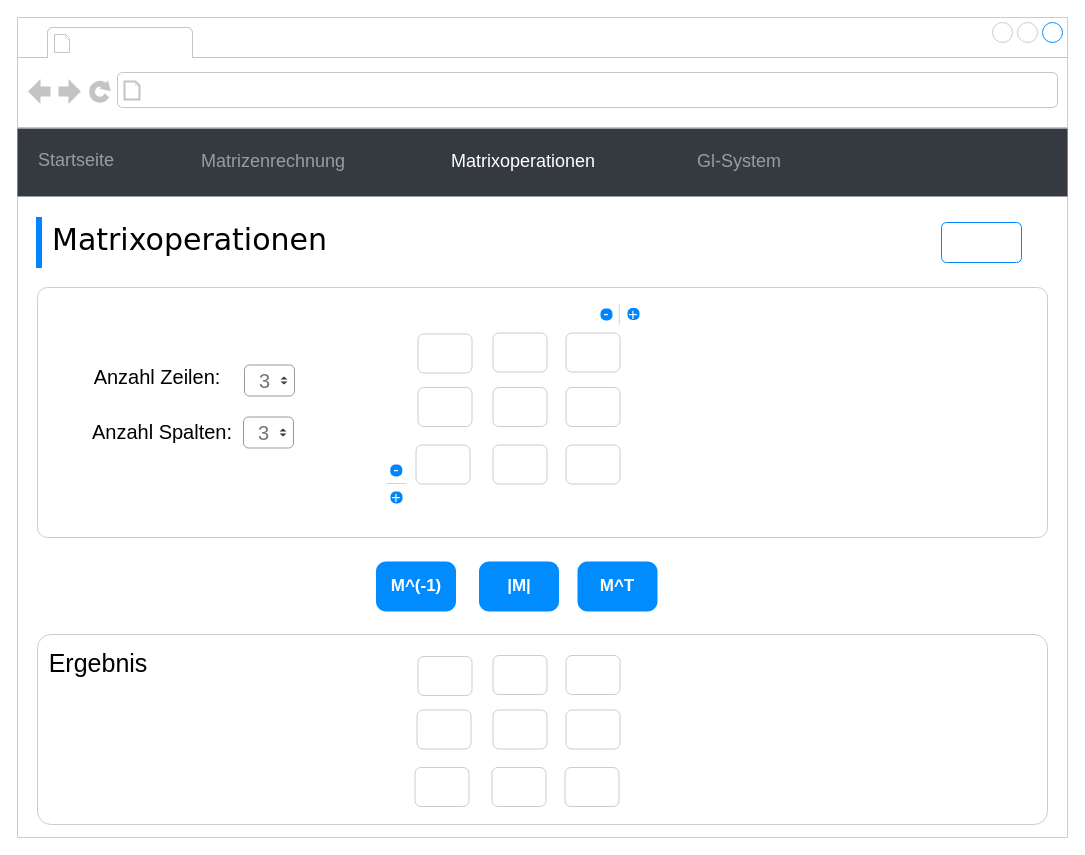
Some shapes in this 1085 by 855 pixel diagram are drawn without their labels. The centre of each missing label's shape, as x and y in pixels:
"Hilfe" goes at point 981,242.
"https://www.default.com/Matrixoperationen" goes at point 272,90.
"Inversenberechnung" goes at point 542,162.
"Matrixopera..." goes at point 132,42.
